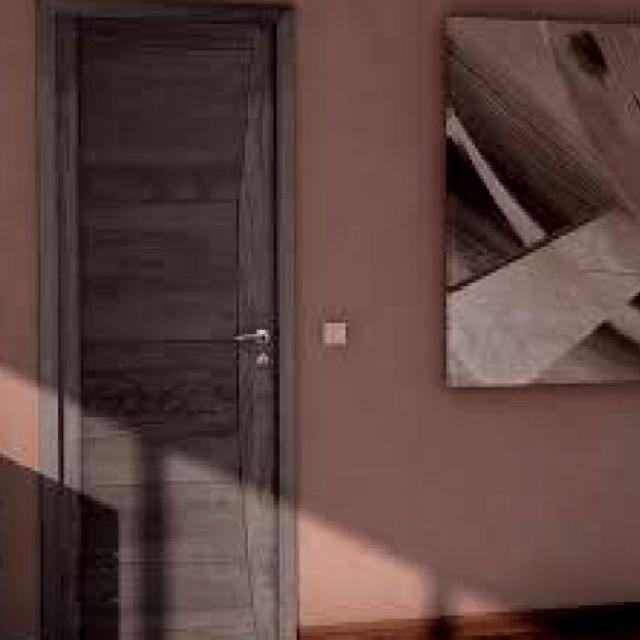door: (51, 7, 290, 638)
